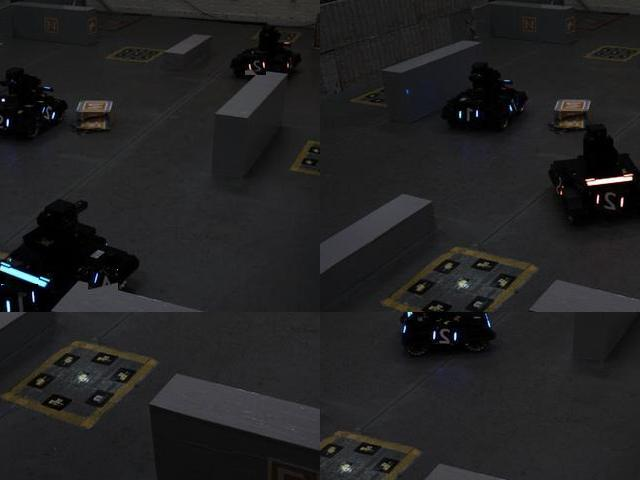armor: (1, 284, 40, 311), (430, 322, 465, 350), (592, 190, 630, 215), (89, 270, 120, 299), (457, 103, 484, 127), (37, 102, 60, 128), (245, 57, 267, 77), (0, 110, 13, 135)
